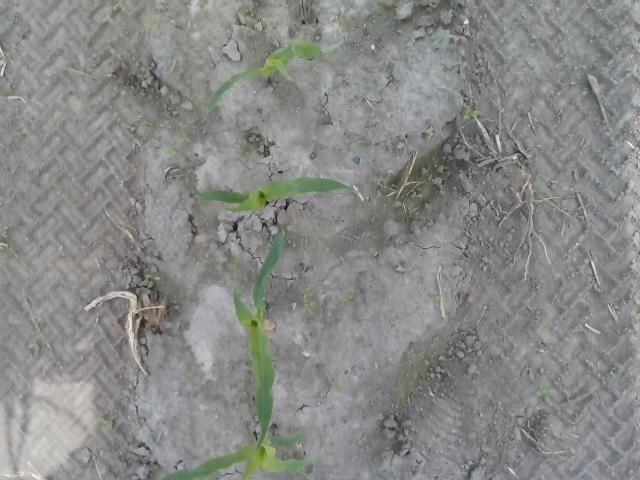Maize: (230, 229, 288, 478), (205, 41, 343, 109), (160, 423, 324, 476), (191, 176, 361, 215)
Weeds: (536, 377, 554, 404), (300, 288, 318, 314), (140, 15, 159, 30), (403, 200, 419, 214), (98, 417, 115, 430), (160, 146, 178, 158), (463, 110, 481, 121), (344, 138, 358, 152), (538, 322, 552, 335), (146, 272, 162, 282), (181, 131, 192, 145), (342, 295, 354, 304), (454, 144, 465, 152)
